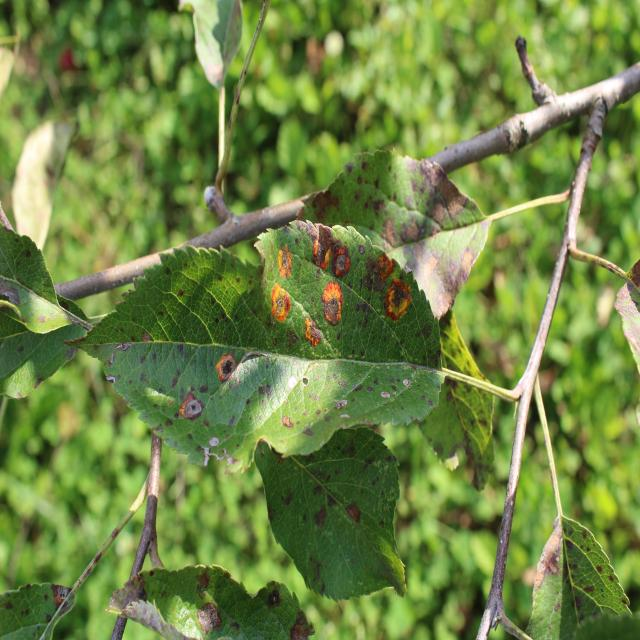Rust: (310, 211, 357, 289), (379, 274, 420, 341), (209, 320, 244, 394), (178, 373, 212, 440), (253, 280, 295, 333), (314, 276, 348, 336), (271, 228, 295, 279), (301, 316, 325, 364)
